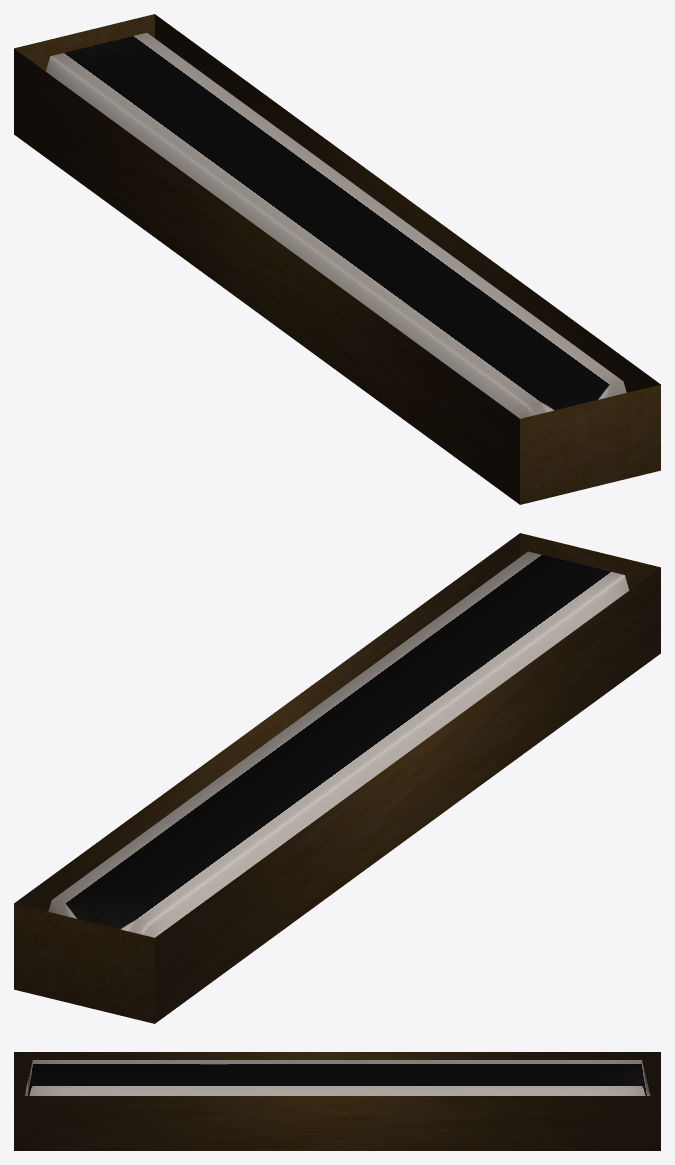
Rendered from CeilingLamp_Baked.fbx.
3 renders of one model, top to bottom at view 1: azimuth 30°, elevation 25°; view 2: azimuth 150°, elevation 25°; view 3: azimuth 270°, elevation 25°, orthographic. The views are drawn at different scales.
Parts seen in each view (by area): view 1: CeilingLamp; view 2: CeilingLamp; view 3: CeilingLamp.
Part boxes in pixels (box(x1,y1,x2,y2)): CeilingLamp: box(14, 14, 660, 504); CeilingLamp: box(14, 533, 660, 1023); CeilingLamp: box(14, 1052, 660, 1150).
Bounding box in the file's own units: 20.92 × 12.22 × 130.
